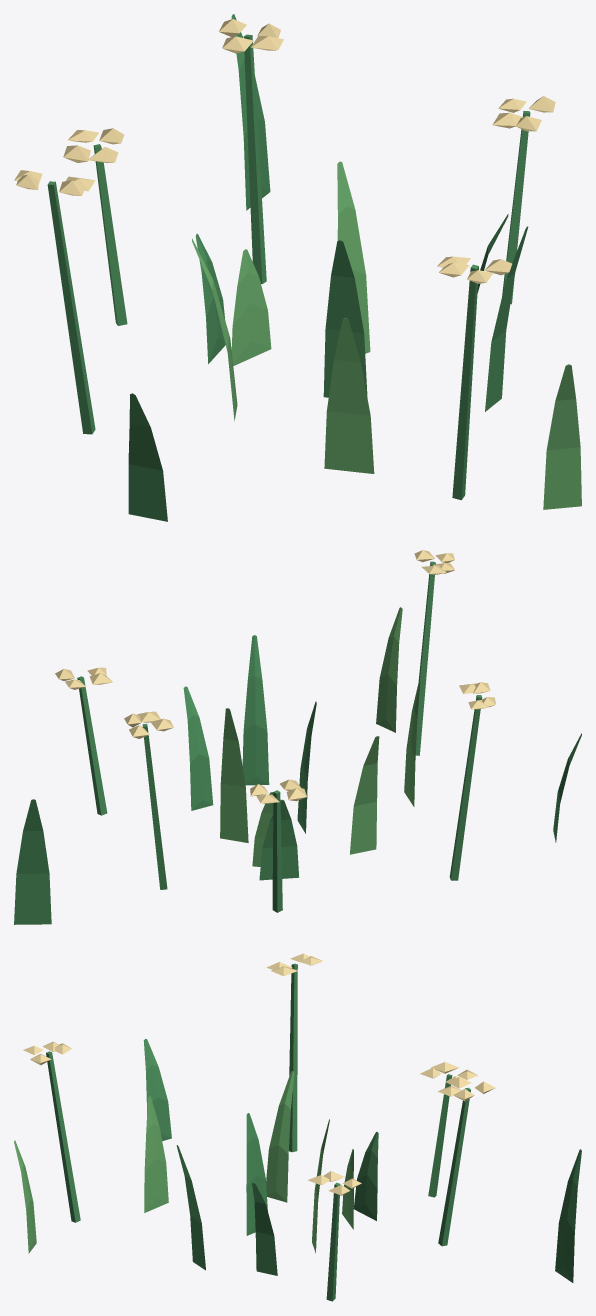
The model's file is flowers_meadow_a.glb.
The picture shows the model from 3 angles, top to bottom: view 1: azimuth 30°, elevation 25°; view 2: azimuth 150°, elevation 25°; view 3: azimuth 270°, elevation 25°; orthographic projection. The views are drawn at different scales.
Visible parts, largest first — view 1: FlowersMeadowA; view 2: FlowersMeadowA; view 3: FlowersMeadowA.
Boxes of the visible parts, x1,y1,x2,y2 form: FlowersMeadowA: [14, 14, 581, 521]; FlowersMeadowA: [14, 550, 581, 924]; FlowersMeadowA: [14, 953, 581, 1301].
Bounding box in the file's own units: 1.23 × 0.5606 × 1.57.
